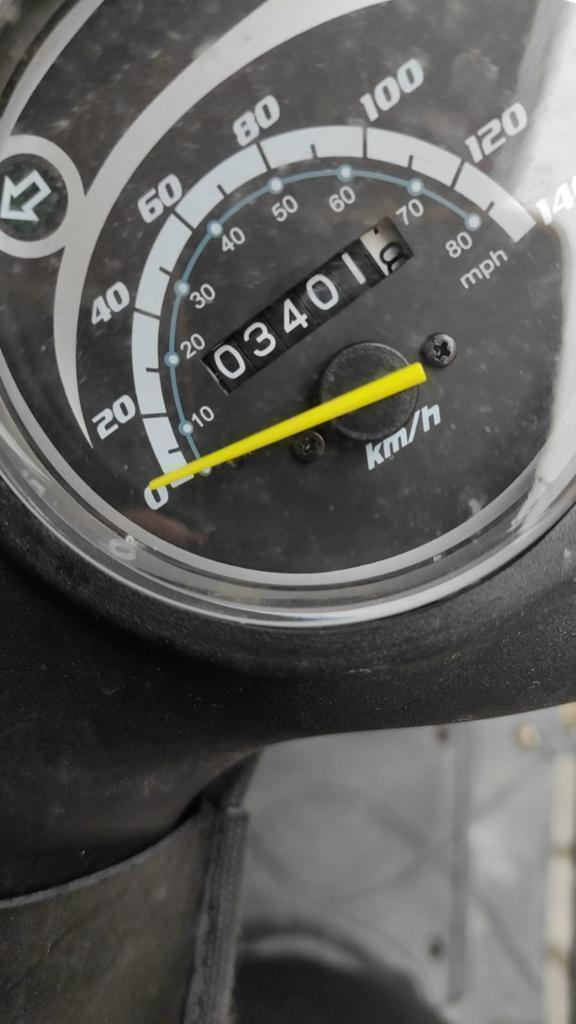0: (303, 275, 339, 312), (211, 347, 245, 384), (229, 223, 246, 245), (200, 283, 217, 302)
1: (337, 248, 371, 293)
3: (239, 320, 275, 359)
4: (277, 296, 312, 335), (218, 233, 235, 254)
7: (392, 206, 411, 227)
8: (376, 242, 412, 281)
odometer: (200, 213, 416, 399)
